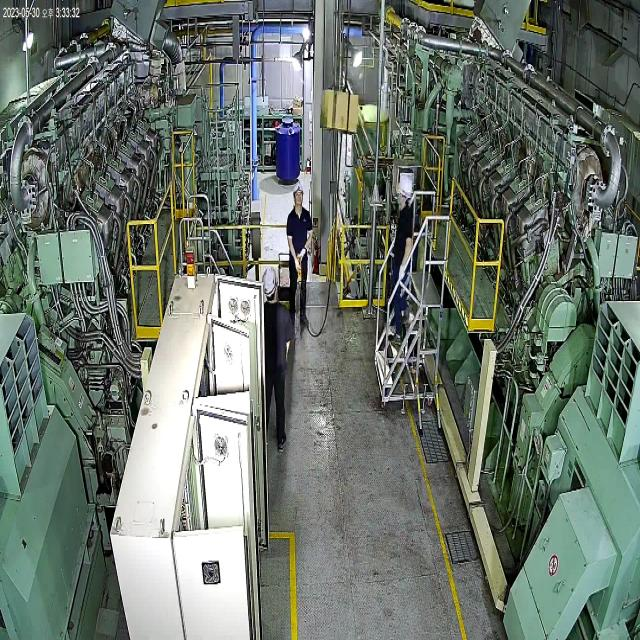Water Tank: (274, 108, 302, 186)
worker: (250, 260, 298, 458), (382, 170, 420, 349), (284, 180, 313, 346)
